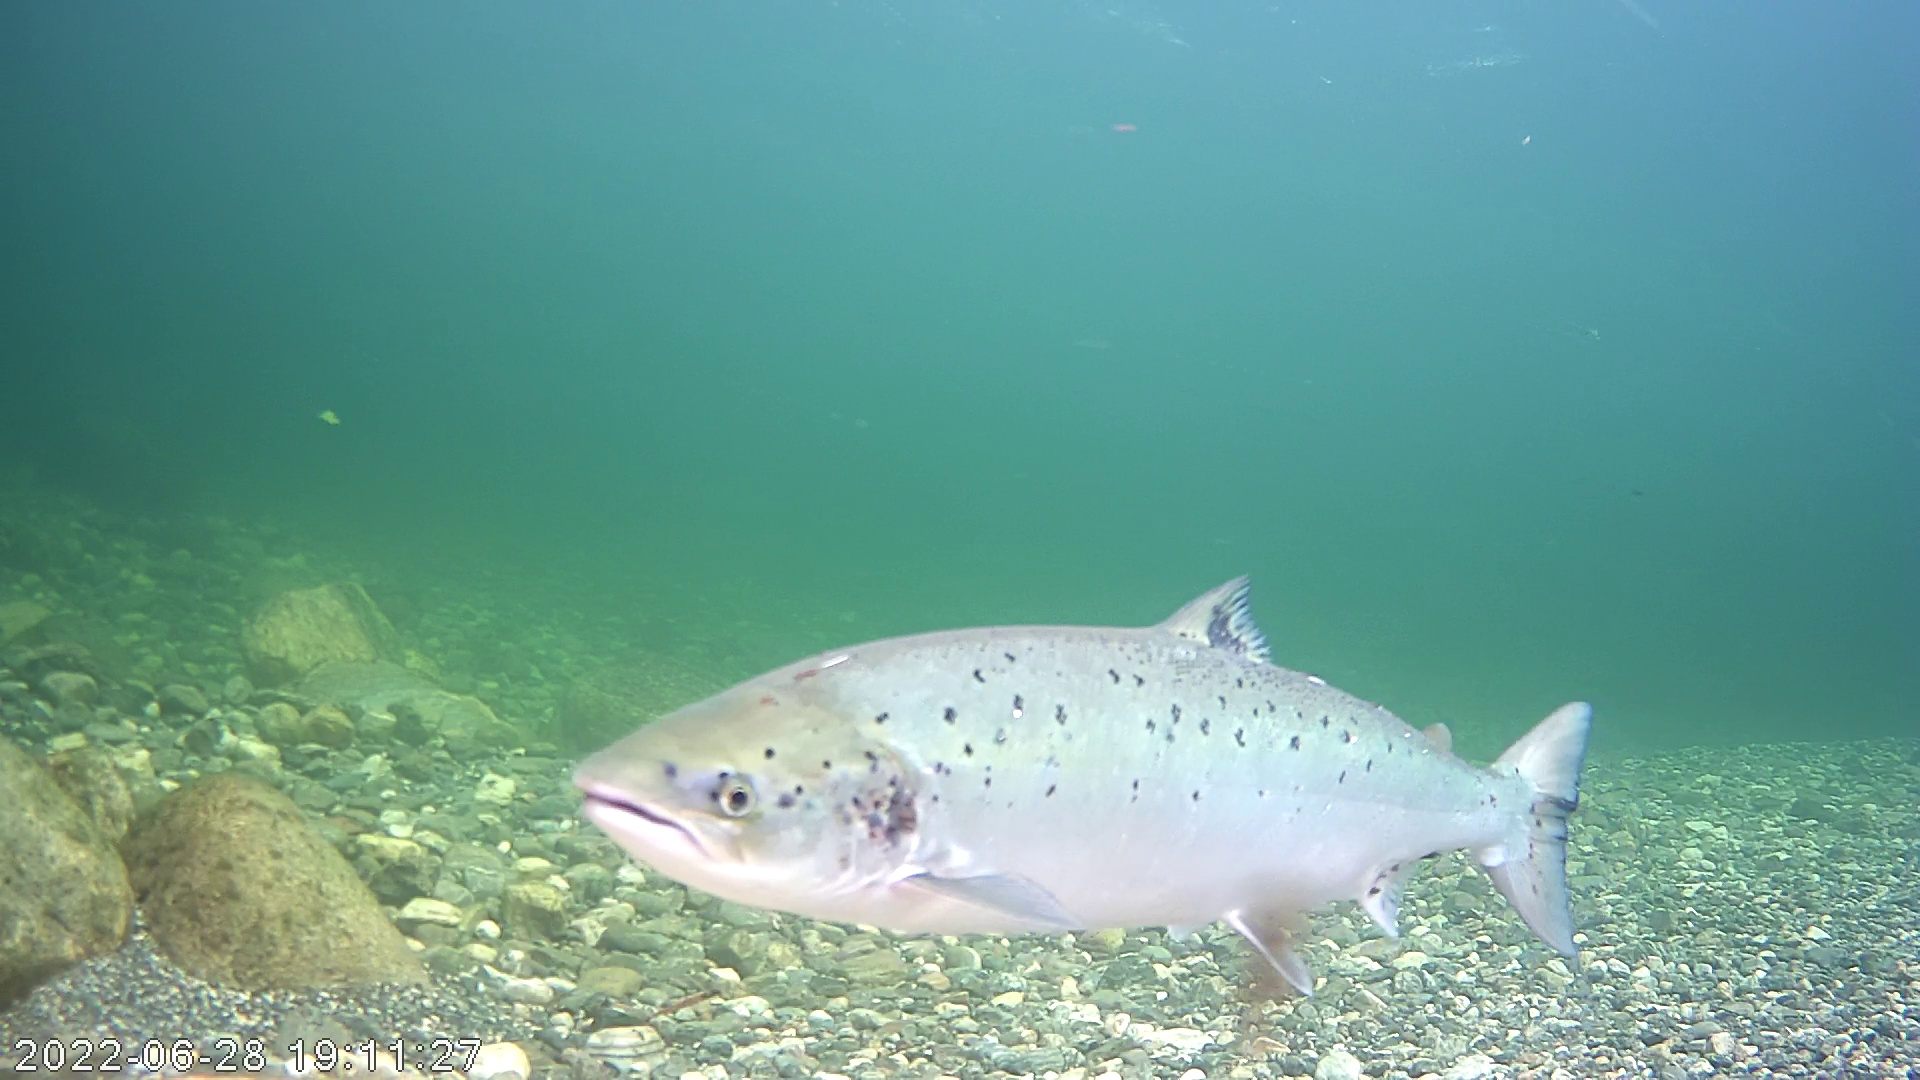salmon: (545, 518, 1618, 971)
